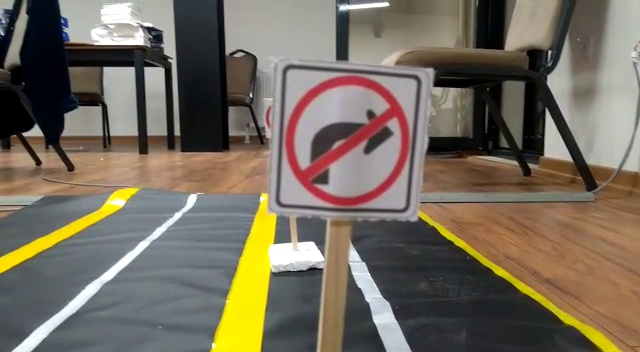saga_donulmez: (279, 66, 416, 213)
